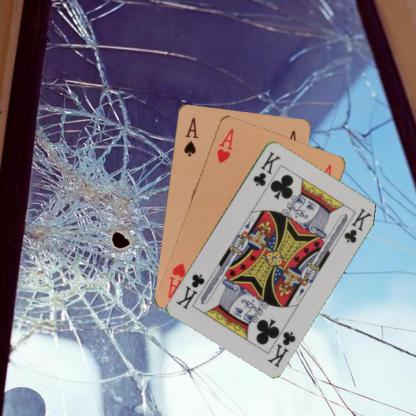Ah: (214, 125, 234, 164)
As: (181, 115, 198, 158)
Kc: (265, 328, 297, 368), (250, 149, 283, 187)
